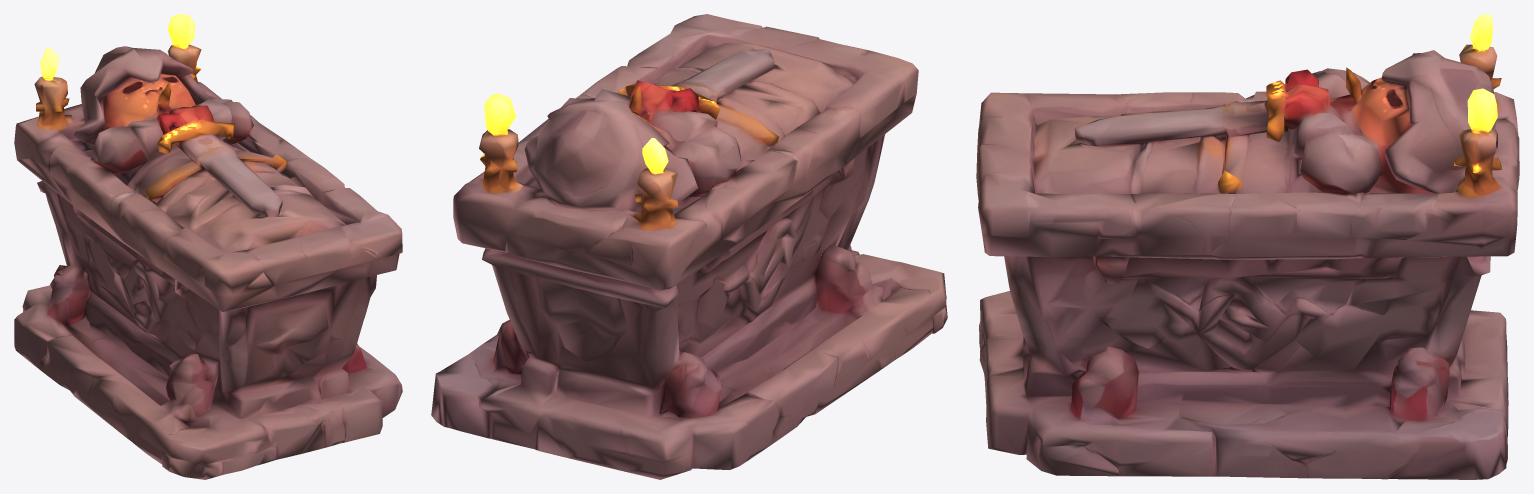
Rendered from cr_tomb-D-gJvDBt.glb.
3 renders of one model, left to right at view 1: azimuth 30°, elevation 25°; view 2: azimuth 150°, elevation 25°; view 3: azimuth 270°, elevation 25°, orthographic. The views are drawn at different scales.
Visible parts, largest first — view 1: tripo_node_bd569c67-9443-4d7e-bd21-558f62a2da2d; view 2: tripo_node_bd569c67-9443-4d7e-bd21-558f62a2da2d; view 3: tripo_node_bd569c67-9443-4d7e-bd21-558f62a2da2d.
Part boxes in pixels (left/top/right/bottom): tripo_node_bd569c67-9443-4d7e-bd21-558f62a2da2d: left=14, top=14, right=402, bottom=479; tripo_node_bd569c67-9443-4d7e-bd21-558f62a2da2d: left=431, top=14, right=947, bottom=479; tripo_node_bd569c67-9443-4d7e-bd21-558f62a2da2d: left=976, top=14, right=1519, bottom=479.
Size of the model in its own units: 2.16 by 2.31 by 3.2.
Materials: 1 (1 with a texture image).
